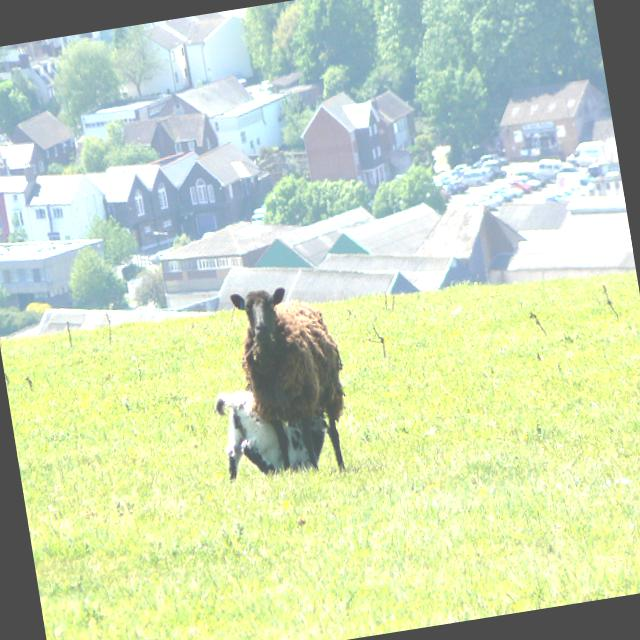Vehicle: (434, 142, 582, 218), (562, 138, 606, 170), (556, 168, 595, 196), (506, 172, 542, 196), (534, 156, 566, 182), (514, 168, 546, 189), (458, 169, 488, 190), (480, 162, 507, 181), (445, 180, 470, 197), (502, 182, 524, 200), (477, 196, 499, 213), (492, 186, 512, 204), (488, 192, 503, 204), (472, 161, 483, 168)
